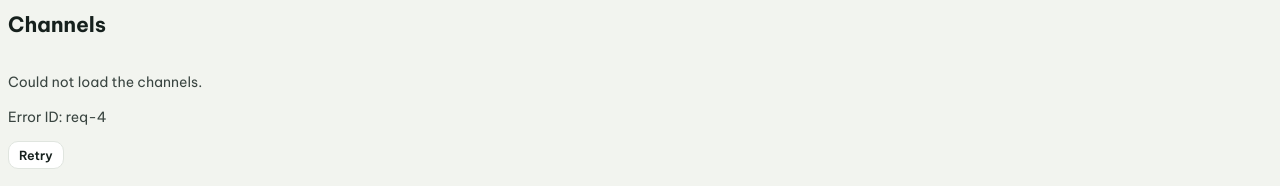
it: its own states (R25, R32) › shows the error with its ID and a Retry that asks again
Check: the text "Could not load the channels." is shown, box left=8, top=73, right=202, bottom=91
Check: the text "Error ID: req-4" is shown, box left=8, top=108, right=107, bottom=126
Click the button "Retry".
click(36, 155)  # box left=8, top=141, right=64, bottom=169
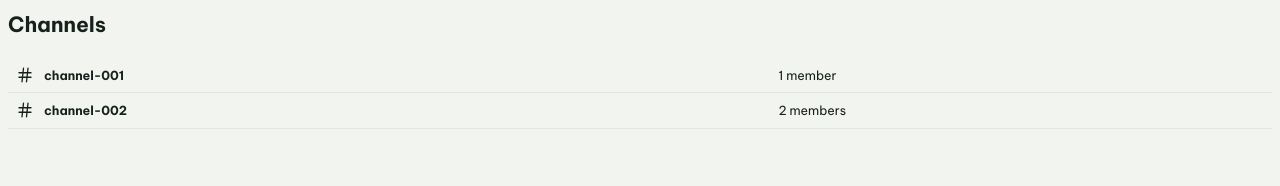
Check: the table is shown, box left=8, top=58, right=1272, bottom=129
